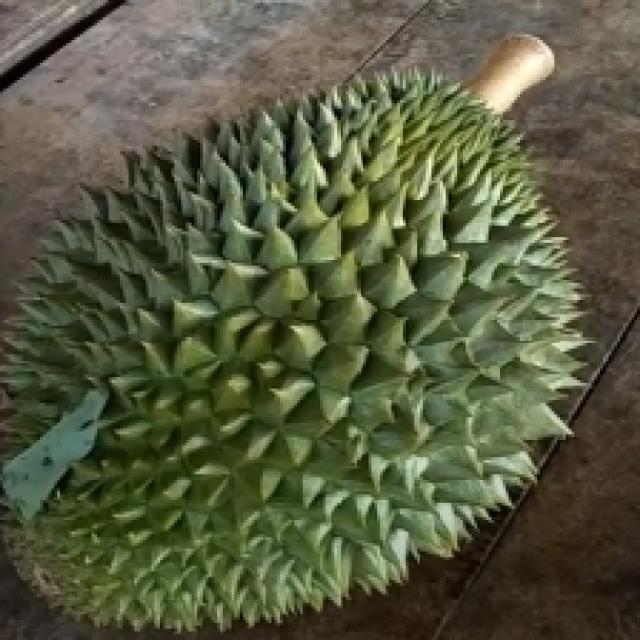d24: (59, 45, 568, 564)
